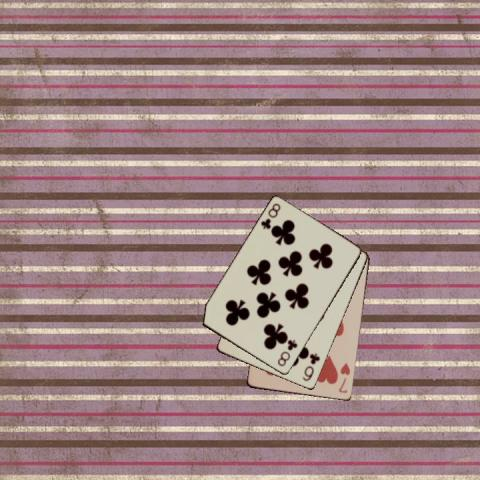6c: (300, 350, 322, 382)
7h: (336, 360, 351, 395)
8c: (275, 337, 299, 368), (258, 200, 282, 231)
